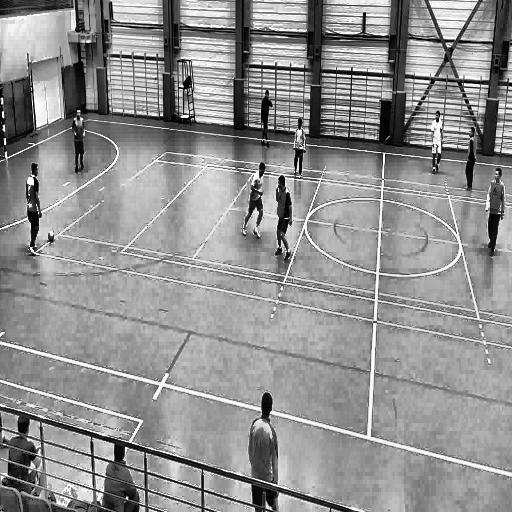ball: (46, 228, 56, 246)
player: (249, 385, 293, 512), (240, 158, 268, 245), (483, 167, 507, 259), (273, 172, 293, 266), (24, 160, 42, 262), (0, 320, 13, 458), (462, 124, 479, 194), (428, 108, 445, 177), (257, 84, 274, 150), (291, 113, 307, 180), (72, 107, 85, 179)
